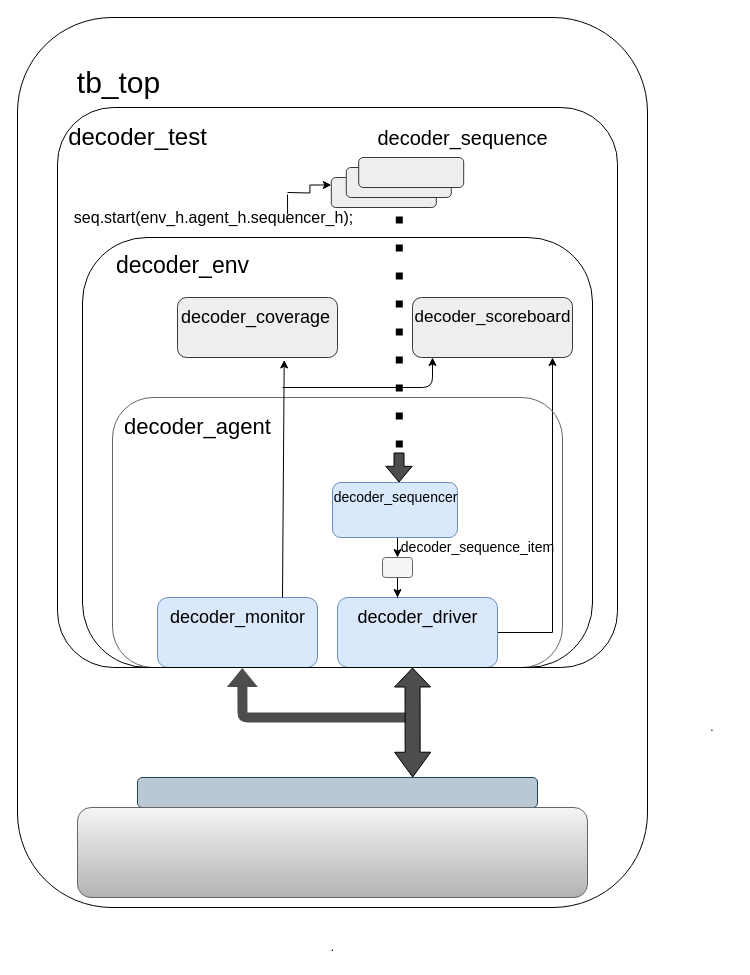
This 750x975 diagram has some shape labels left out. The centre of each missing label's shape, as x and y in pixels:
(DUT): pixel 332 852
interface: pixel 337 792
